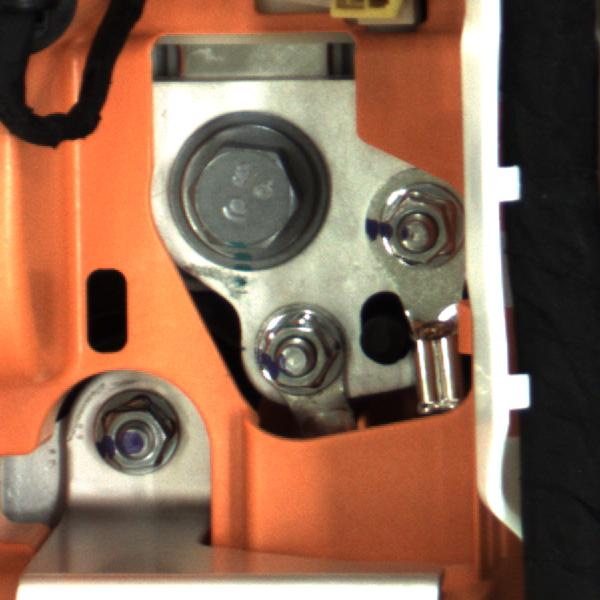nut_b: (169, 114, 332, 277)
screw_s: (355, 174, 467, 274), (89, 384, 187, 478), (248, 305, 348, 390)
